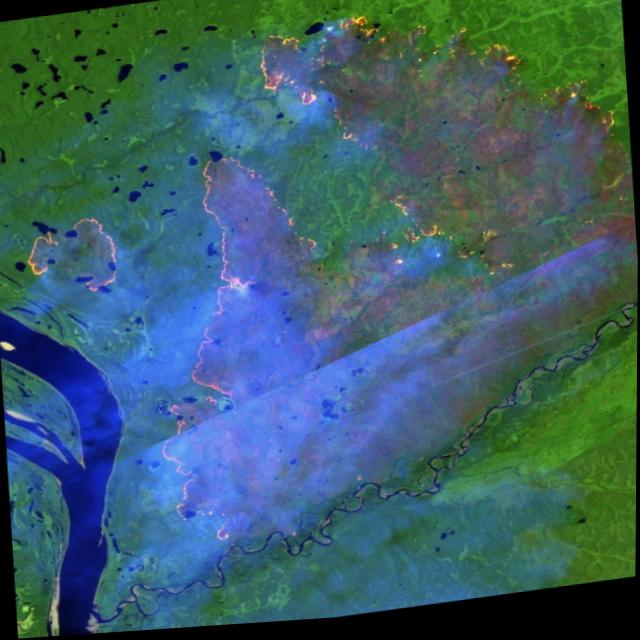fire: (0, 0, 640, 579)
